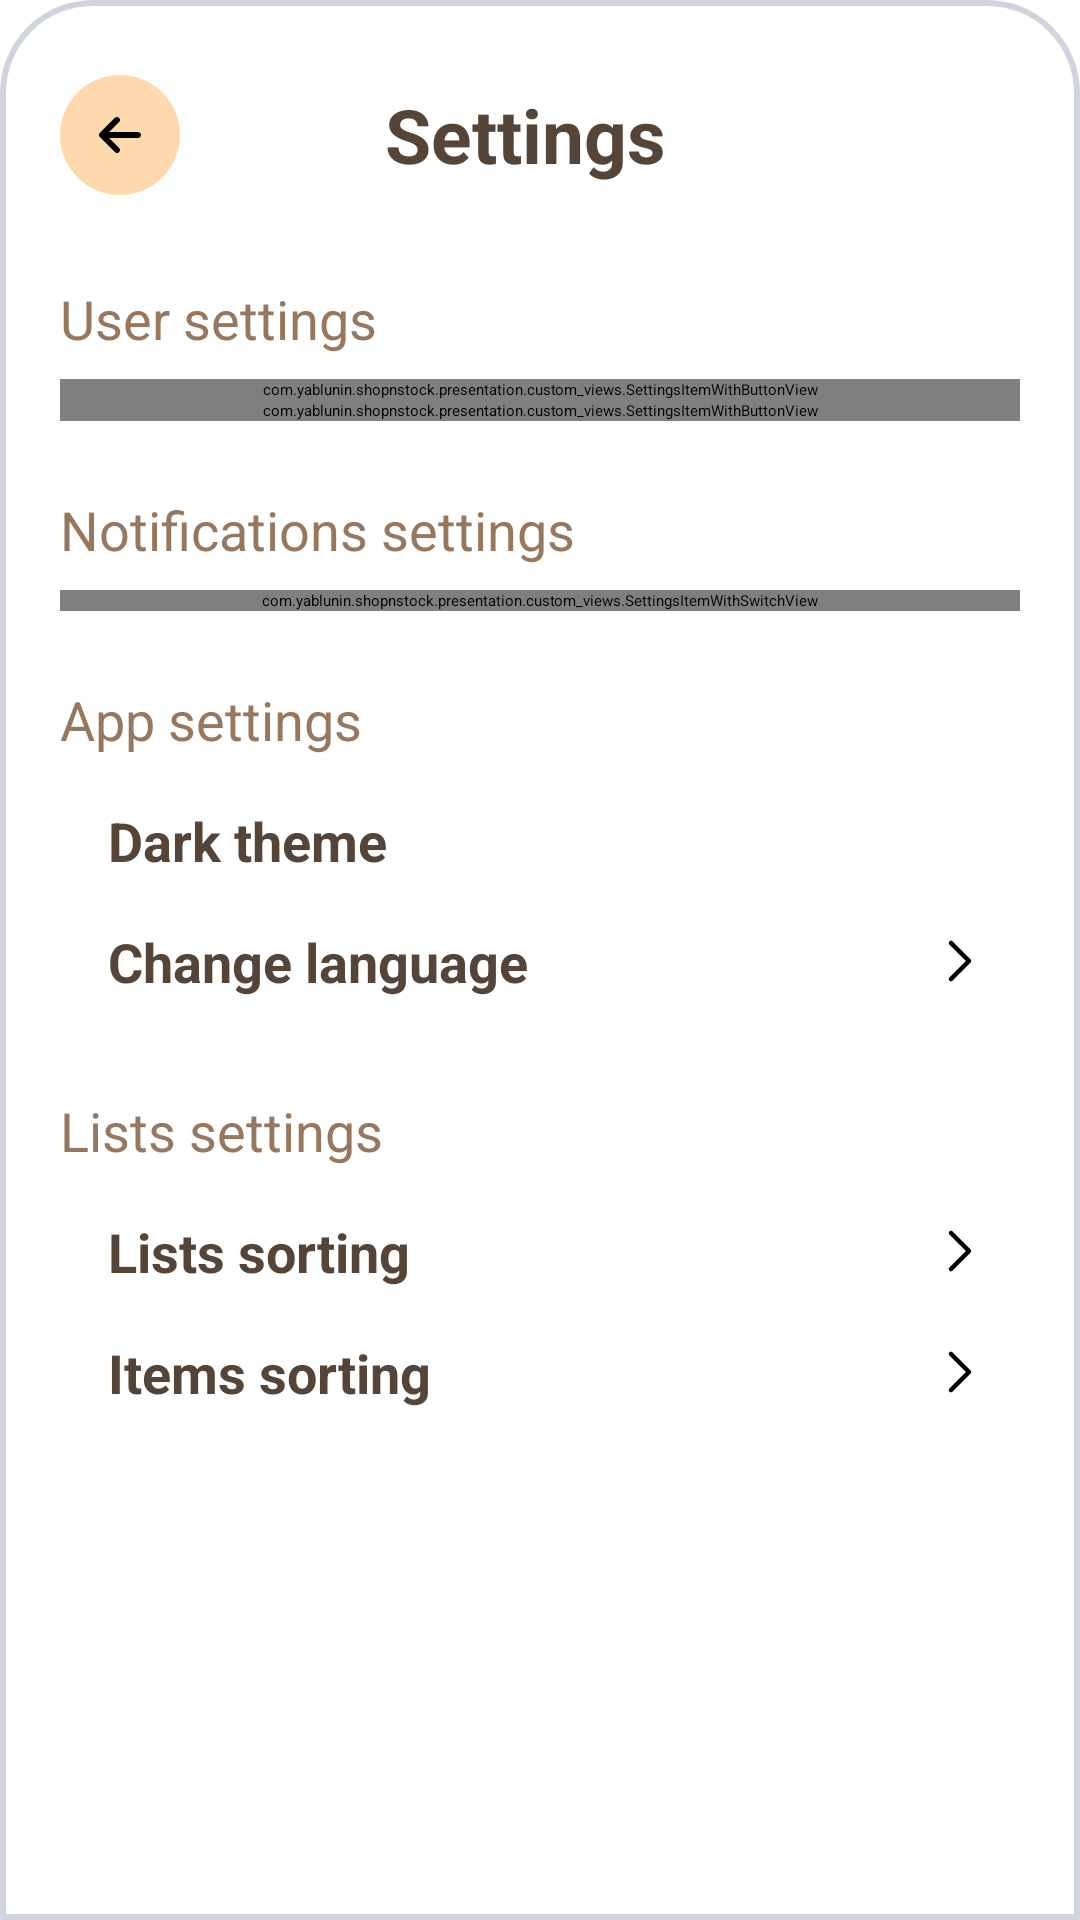

Point at icon controls on the screen. Image size 1080*1920, points as point (x, y).
arrow left: point (120, 135)
chevron right: point (960, 961), point (960, 1251), point (960, 1372)
